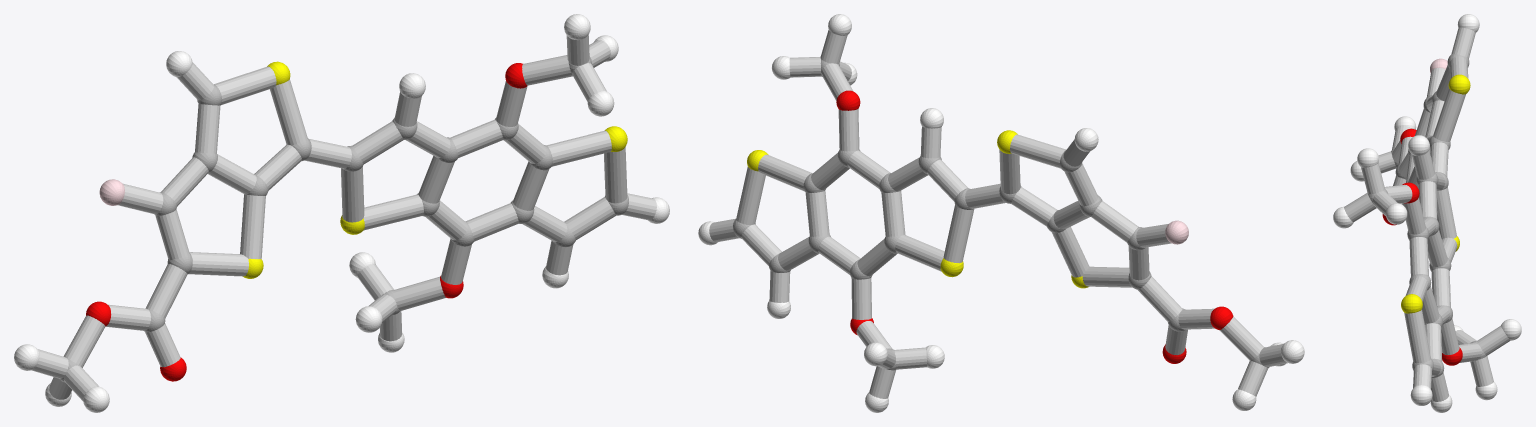
The model's file is Dimethoxy_Benzodithiophene_Phi_5_Theta_30_Methylcarbonyl_3_Fluoro_Thienothiophene.glb.
3 renders of one model, left to right at view 1: azimuth 30°, elevation 25°; view 2: azimuth 150°, elevation 25°; view 3: azimuth 270°, elevation 25°, orthographic. The views are drawn at different scales.
Visible parts, largest first — view 1: grp15205, grp8689, grp1, grp13395, grp7241; view 2: grp15205, grp8689, grp1, grp13395, grp7241; view 3: grp15205, grp8689, grp1, grp7241, grp13395.
Boxes of the visible parts, x1=… form: grp15205: x1=31, y1=35, x2=656, y2=401; grp8689: x1=14, y1=14, x2=669, y2=412; grp1: x1=59, y1=56, x2=628, y2=382; grp13395: x1=86, y1=63, x2=527, y2=381; grp7241: x1=243, y1=61, x2=627, y2=278; grp15205: x1=709, y1=30, x2=1287, y2=398; grp8689: x1=698, y1=14, x2=1304, y2=412; grp1: x1=733, y1=59, x2=1269, y2=370; grp13395: x1=836, y1=90, x2=1233, y2=363; grp7241: x1=747, y1=130, x2=1088, y2=288; grp15205: x1=1344, y1=27, x2=1510, y2=401; grp8689: x1=1333, y1=14, x2=1521, y2=412; grp1: x1=1368, y1=54, x2=1486, y2=377; grp7241: x1=1401, y1=74, x2=1470, y2=313; grp13395: x1=1382, y1=128, x2=1462, y2=365.
Bounding box in the file's own units: 17.16 × 8.96 × 5.18.
